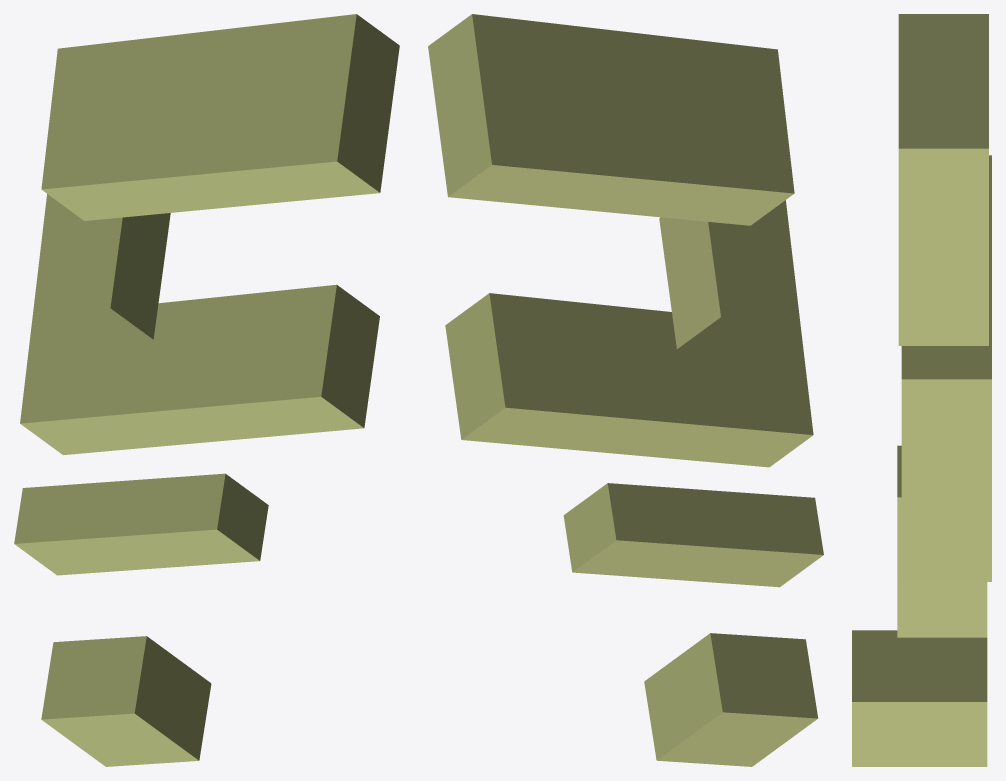
3 renders of one model, left to right at view 1: azimuth 30°, elevation 25°; view 2: azimuth 150°, elevation 25°; view 3: azimuth 270°, elevation 25°, orthographic. The views are drawn at different scales.
Visible parts, largest first — view 1: 0_1_0_0_1_1_3_3; view 2: 0_1_0_0_1_1_3_3; view 3: 0_1_0_0_1_1_3_3.
Boxes of the visible parts, <box> form: 0_1_0_0_1_1_3_3: <box>14,14,399,766</box>; 0_1_0_0_1_1_3_3: <box>428,14,823,766</box>; 0_1_0_0_1_1_3_3: <box>852,14,991,766</box>.
Bounding box in the file's own units: 27.57 × 52.42 × 9.3.
